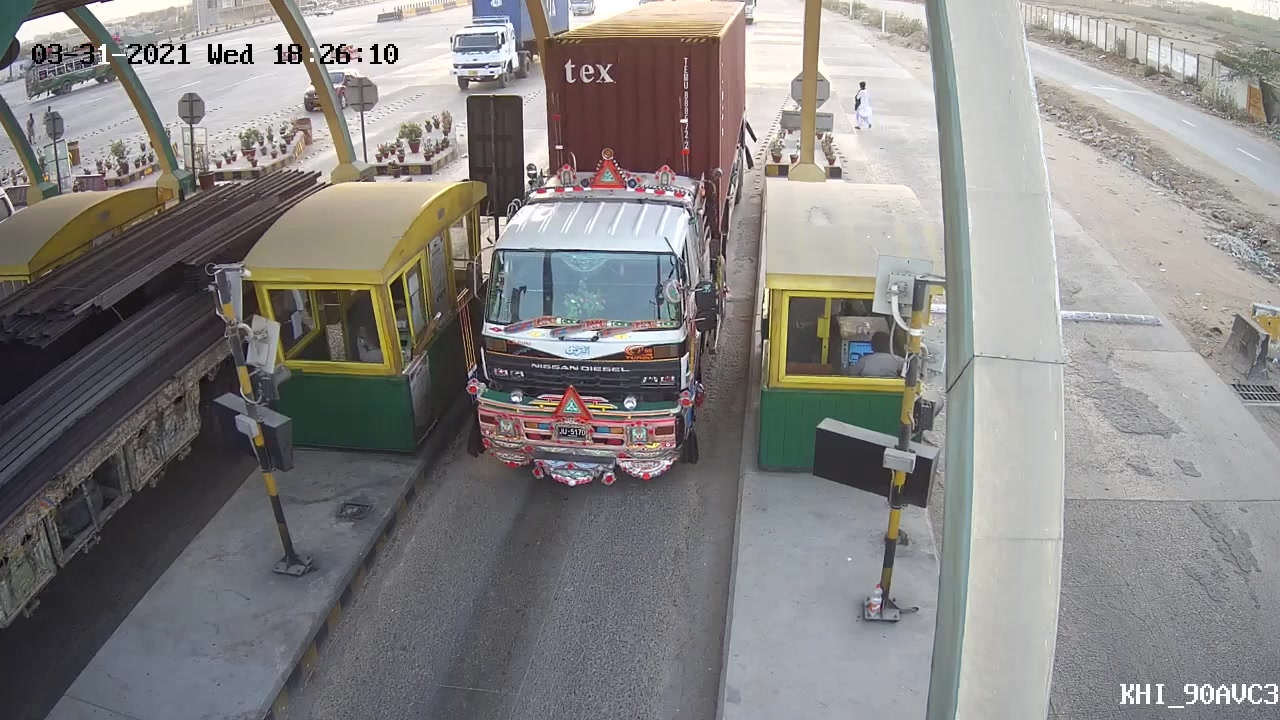F6: (466, 6, 752, 493)
